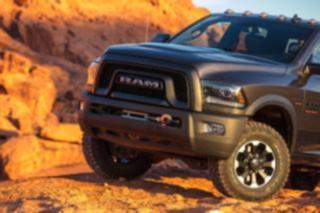ram: (113, 73, 173, 94)
